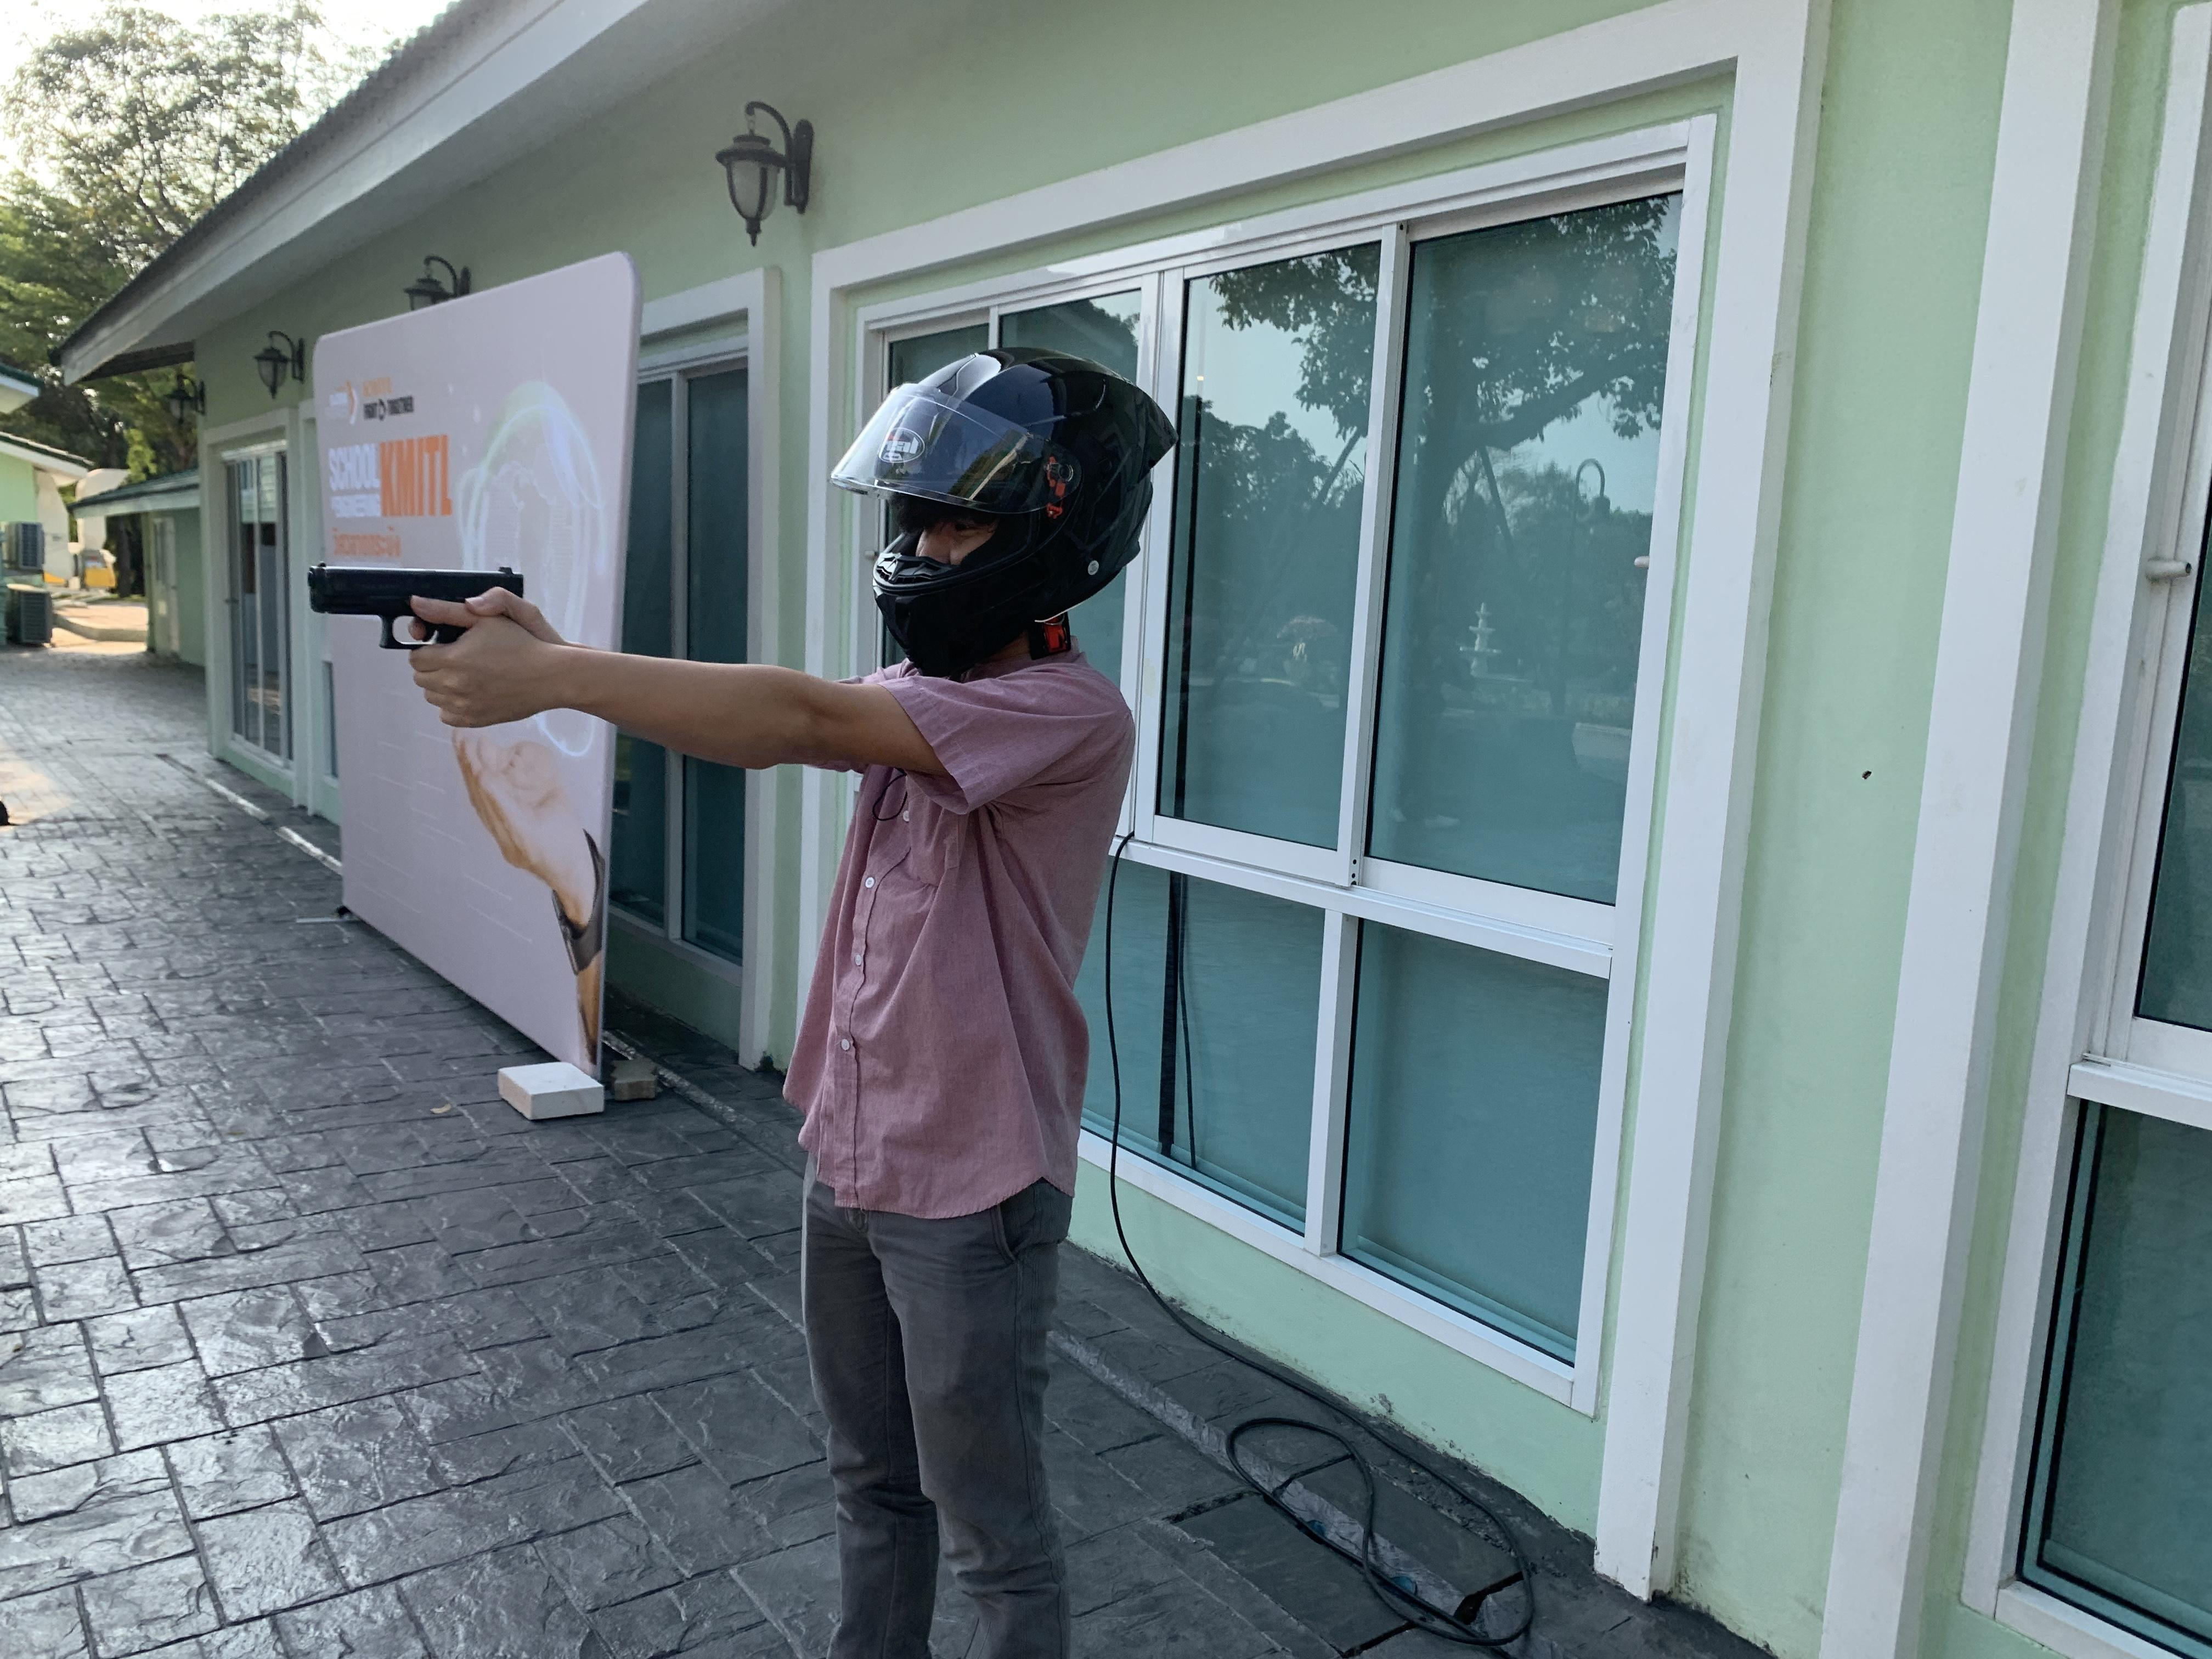criminal: (298, 345, 1188, 1659)
weapon: (298, 554, 536, 657)
